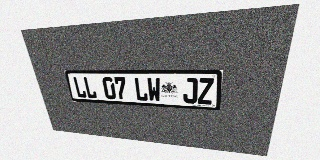0: (102, 77, 116, 100)
7: (113, 77, 128, 100)
J: (183, 78, 198, 104)
L: (134, 77, 148, 101), (72, 77, 87, 98), (83, 77, 97, 99)
W: (147, 77, 161, 102)
Z: (198, 78, 214, 105)
